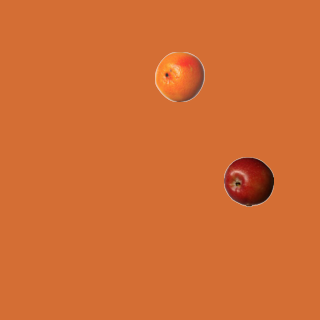Apple Braeburn: (223, 156, 273, 206)
Grapefruit Pink: (154, 51, 204, 101)
